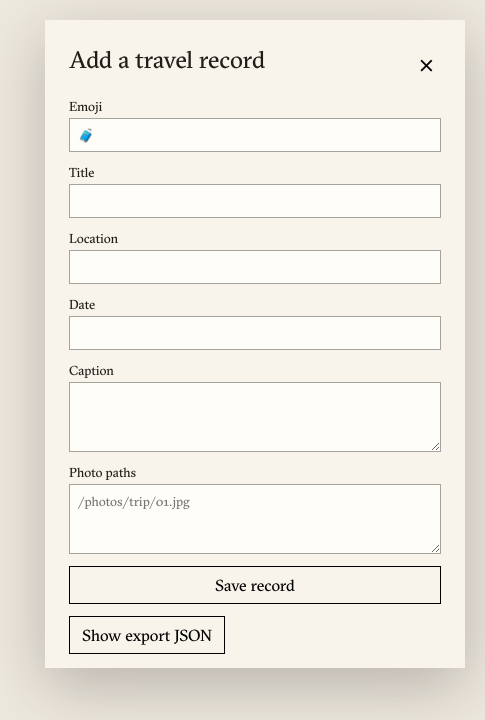
Test: MemoryEditor › shows exported JSON for local records
Click the button "Show export JSON" at {"x": 147, "y": 635}, box [69,616,225,654]
(page scrolled)
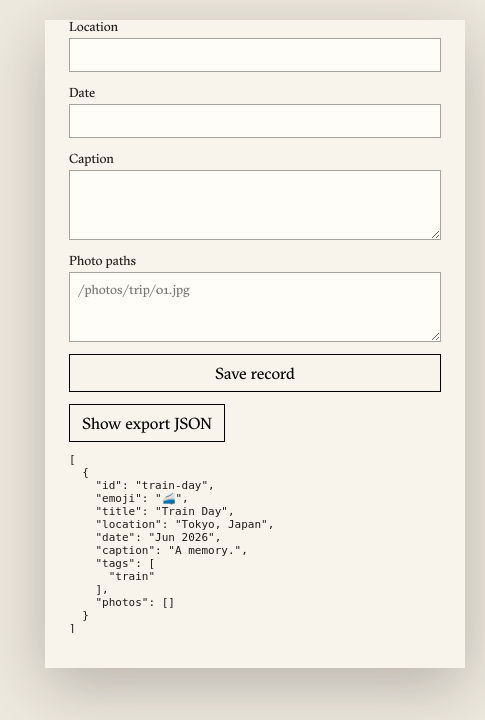
Expected: the text "\"title\": \"Train Day\"" is shown, [69,453,274,635]
